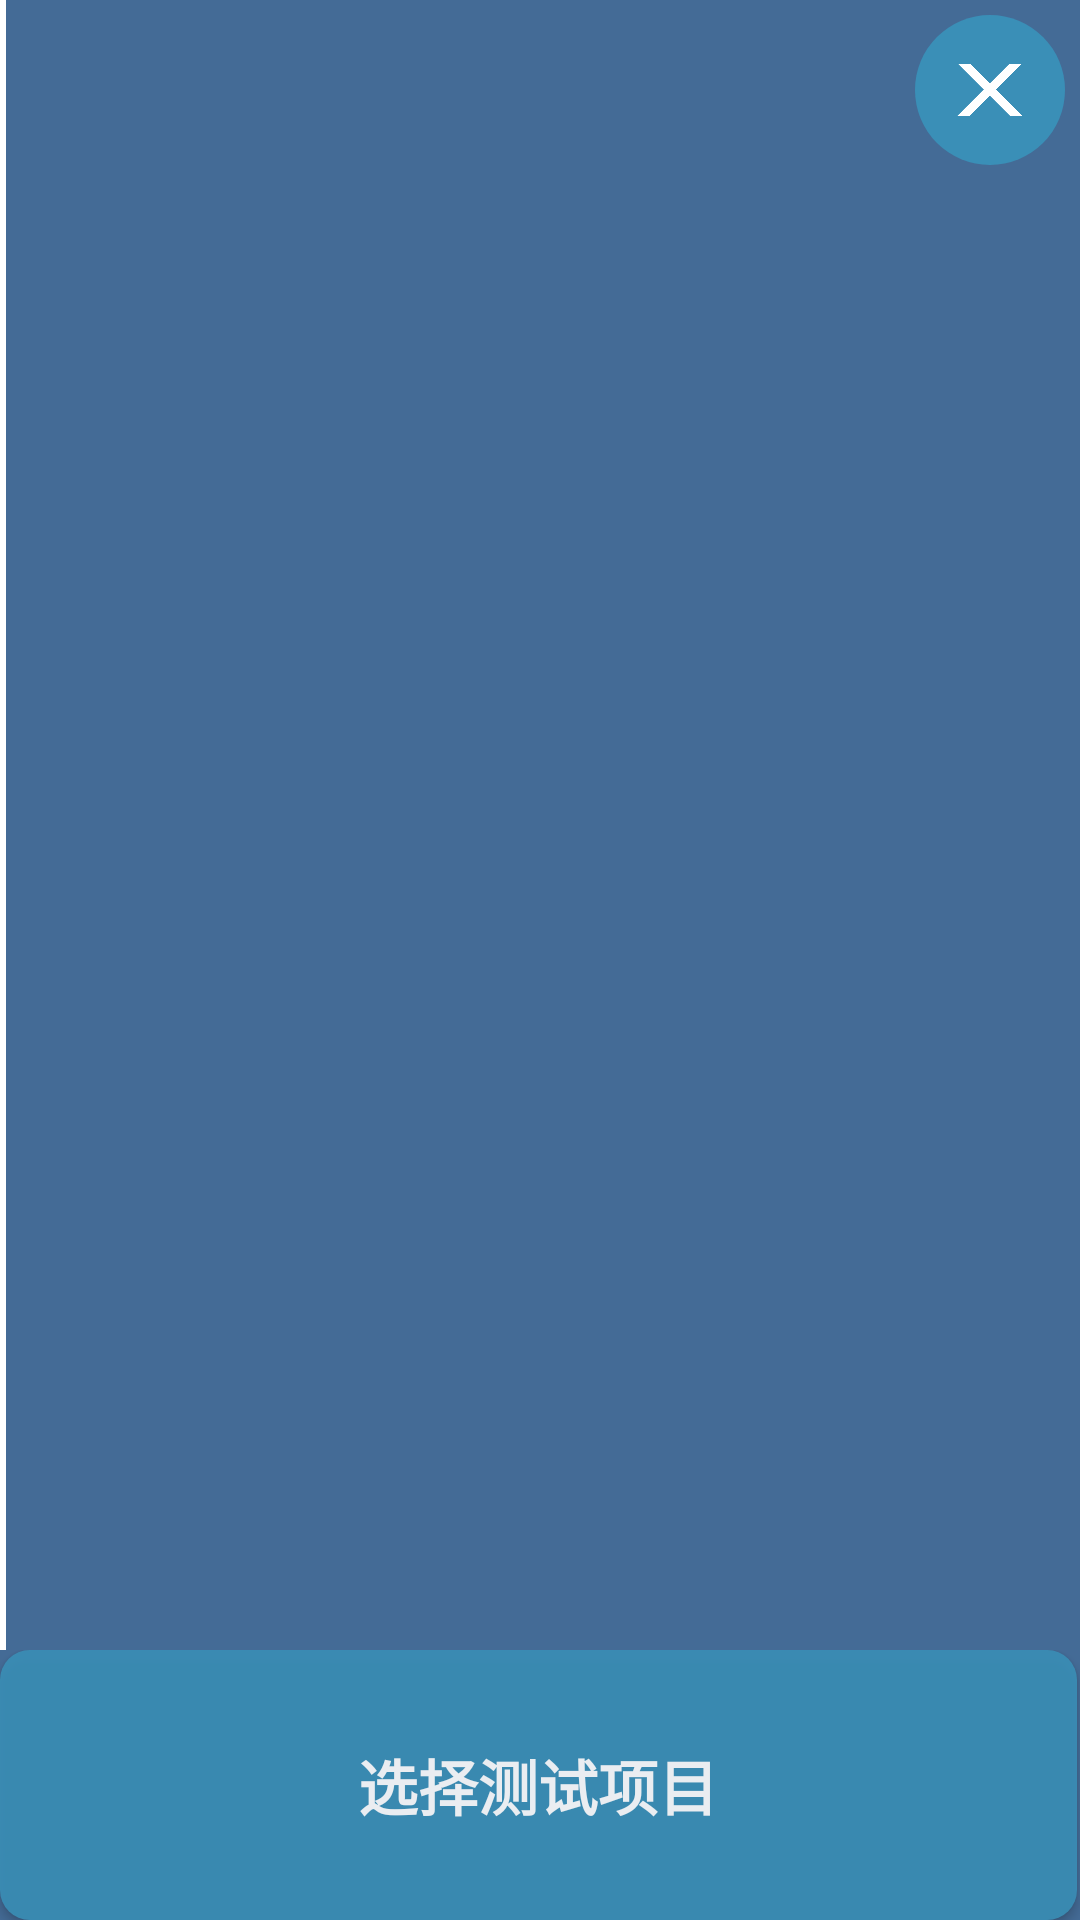

Where to tap for icons on this 1080x1920 app screen, as (x=x, y=y):
exit: (x=990, y=90)
